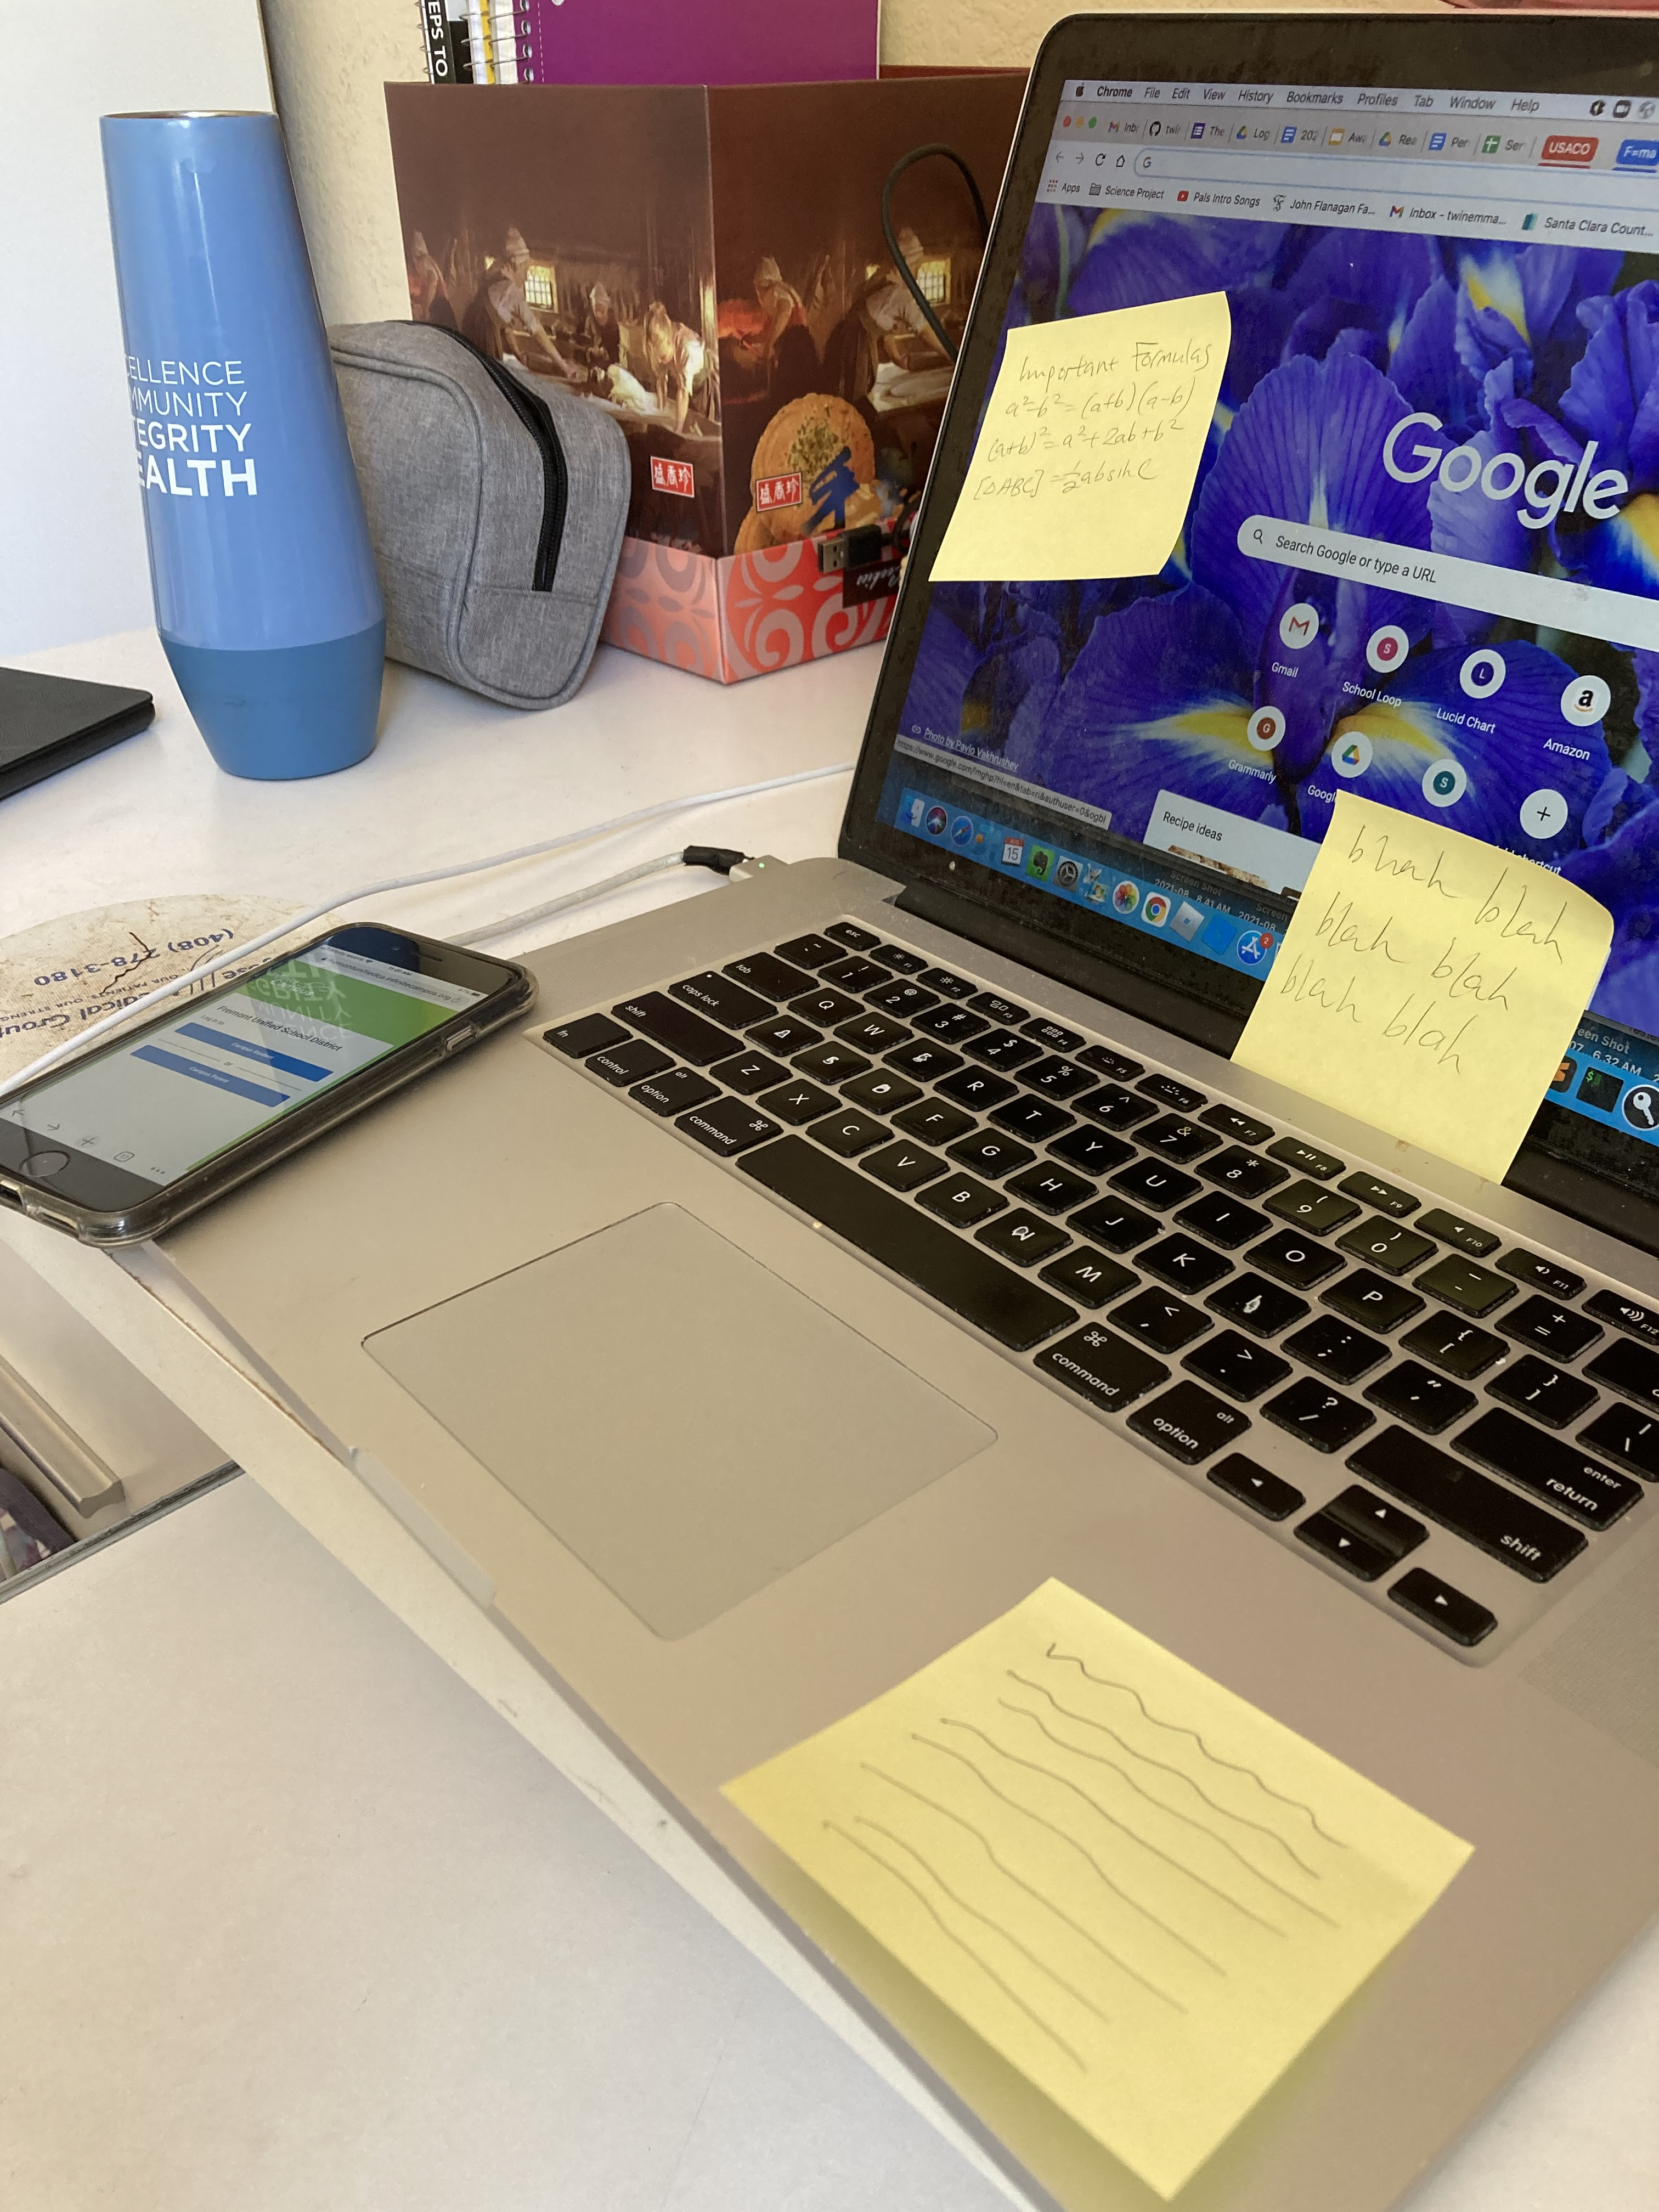Cell Phone: (5, 923, 530, 1240)
Note: (730, 1569, 1471, 2189), (1236, 775, 1612, 1190), (938, 280, 1243, 587)
